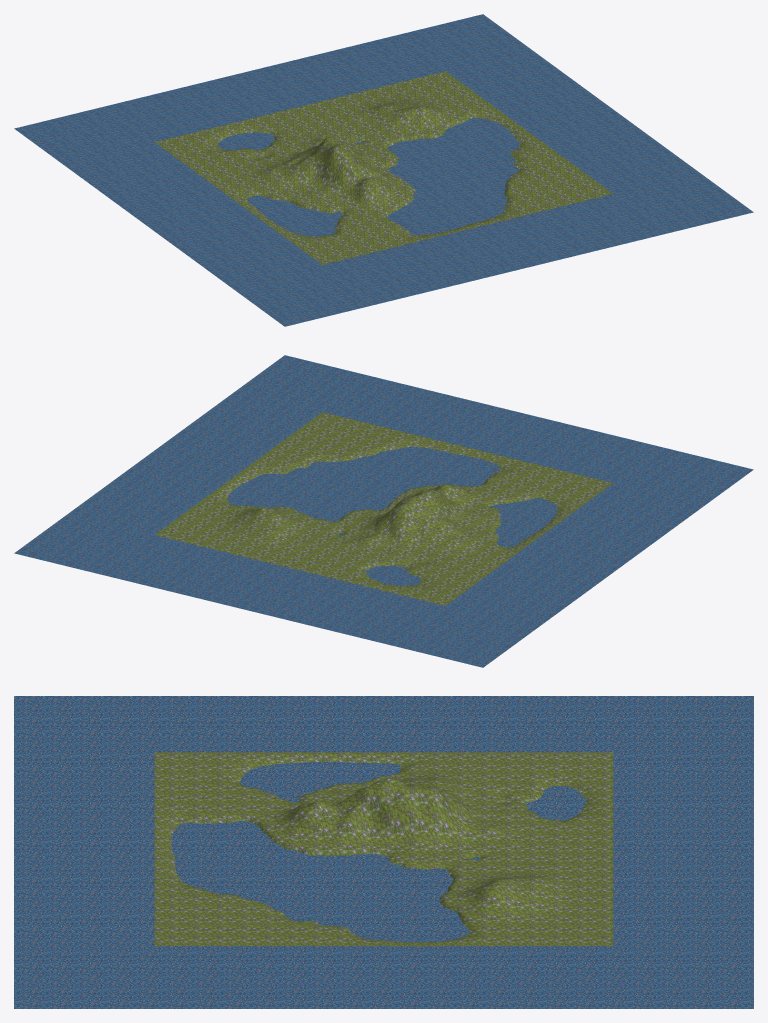
Rendered from lake.glb.
The picture shows the model from 3 angles, top to bottom: view 1: azimuth 30°, elevation 25°; view 2: azimuth 150°, elevation 25°; view 3: azimuth 270°, elevation 25°; orthographic projection. The views are drawn at different scales.
Visible parts, largest first — view 1: Landscape.002; view 2: Landscape.002; view 3: Landscape.002.
Part boxes in pixels (box(x1,y1,x2,y2)): Landscape.002: box(14, 14, 753, 326); Landscape.002: box(14, 355, 753, 667); Landscape.002: box(14, 696, 753, 1008).
Size of the model in its own units: 4 by 0.544 by 4.
2 materials, 2 textured.
